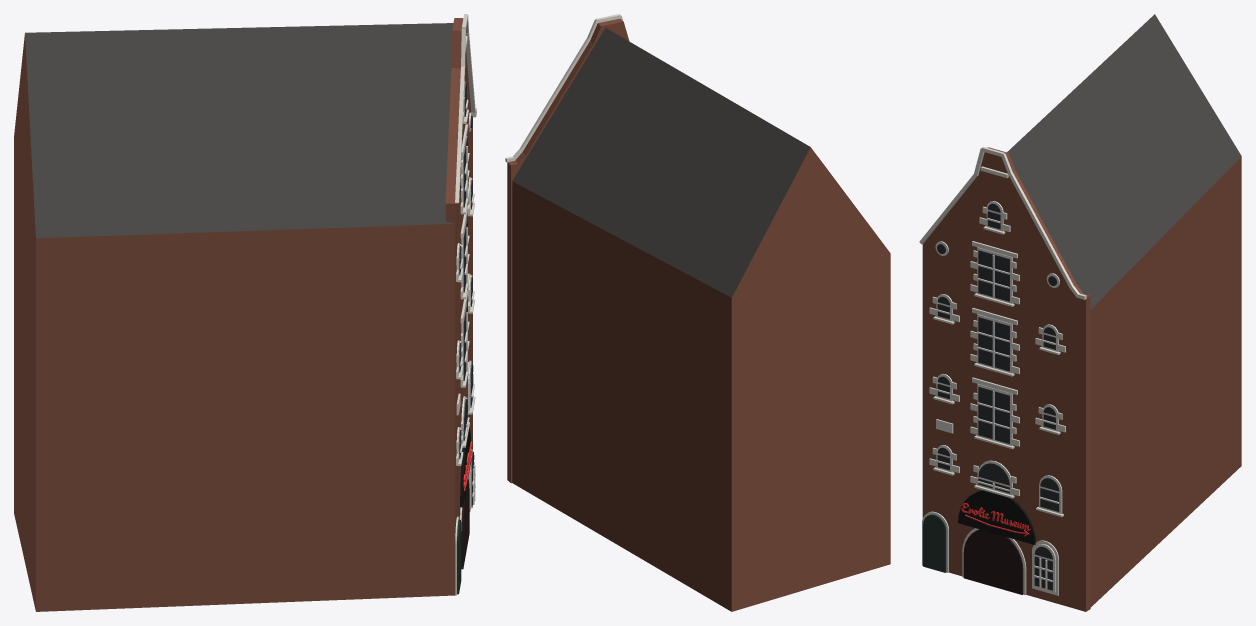
File: erotic-museum.glb
The picture shows the model from 3 angles, left to right: view 1: azimuth 30°, elevation 25°; view 2: azimuth 150°, elevation 25°; view 3: azimuth 270°, elevation 25°; orthographic projection. The views are drawn at different scales.
Parts seen in each view (by area): view 1: erotic-museum; view 2: erotic-museum; view 3: erotic-museum.
Boxes of the visible parts, x1,y1,x2,y2 form: erotic-museum: [14, 14, 476, 611]; erotic-museum: [505, 14, 890, 611]; erotic-museum: [919, 14, 1241, 611].
Bounding box in the file's own units: 13.37 × 15.01 × 10.07.
